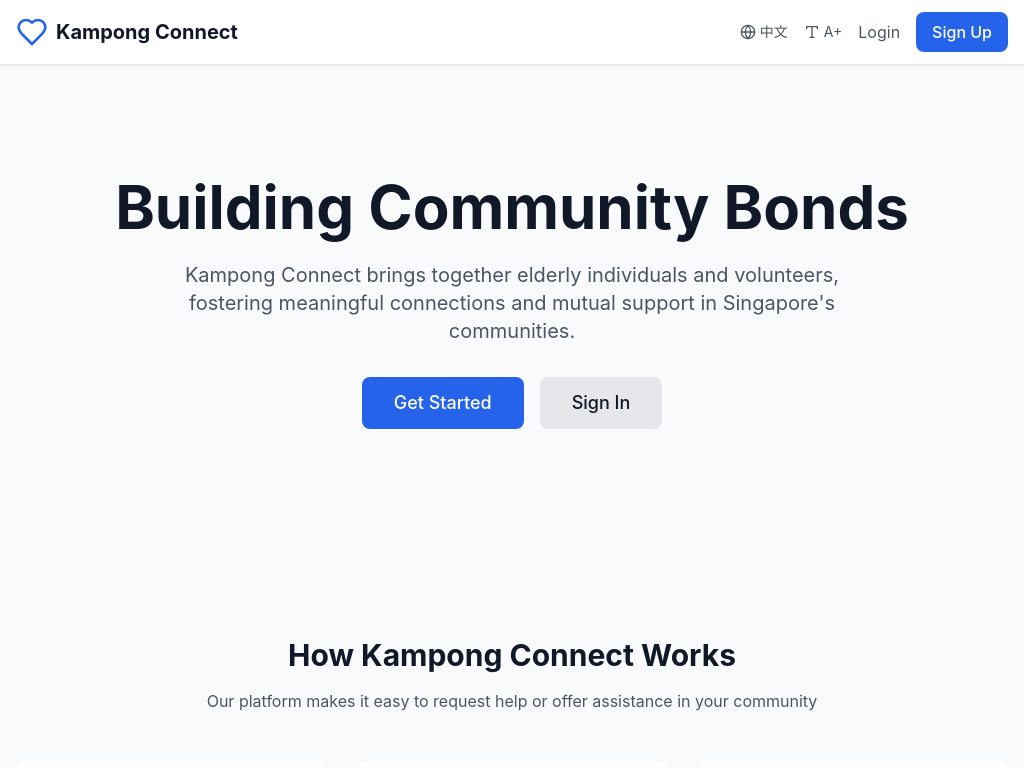
Kampong Connect › navigates to login page
The image size is (1024, 768).
Click the link "Login" at {"x": 879, "y": 32}, box [858,20,900,44]
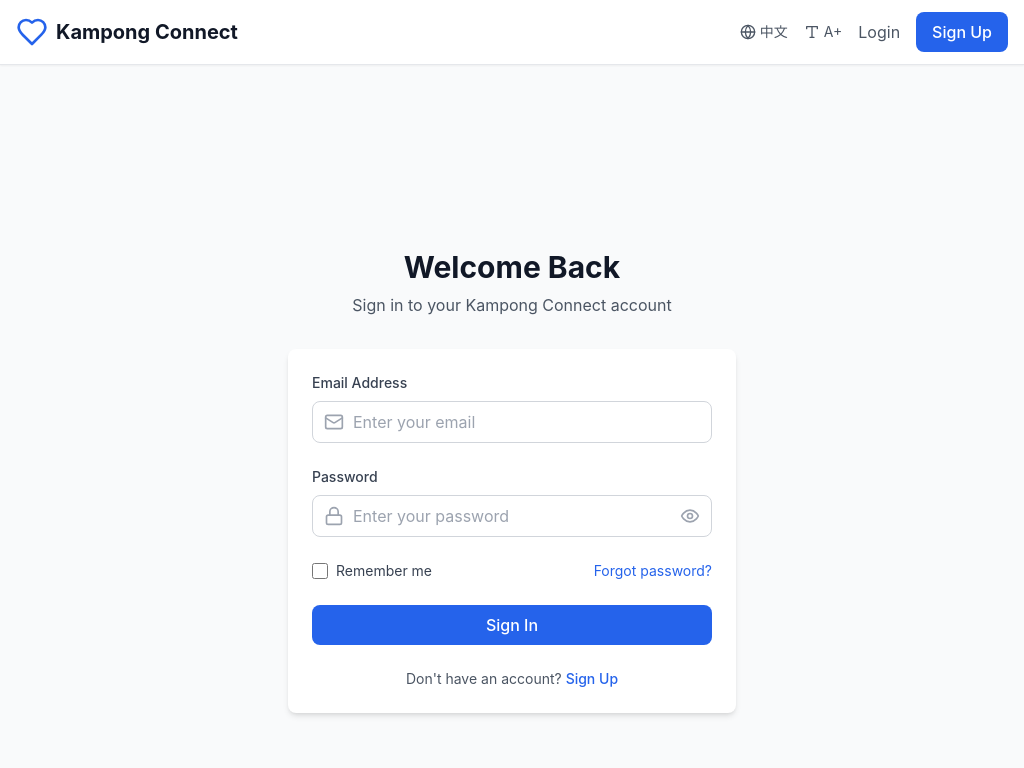
Result: the heading "Welcome Back" is shown at [404,249,620,285]
